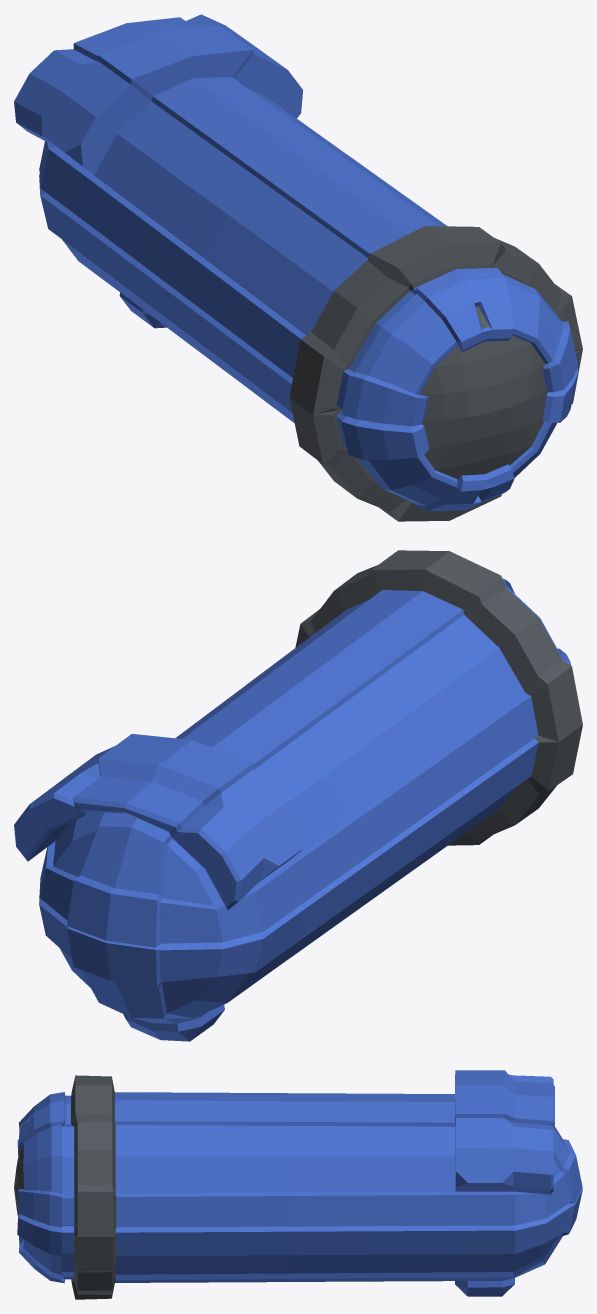
File: Fighter_03_Base_Blue.fbx
The picture shows the model from 3 angles, top to bottom: view 1: azimuth 30°, elevation 25°; view 2: azimuth 150°, elevation 25°; view 3: azimuth 270°, elevation 25°; orthographic projection. The views are drawn at different scales.
Parts seen in each view (by area): view 1: Fighter_03_Base_Blue; view 2: Fighter_03_Base_Blue; view 3: Fighter_03_Base_Blue.
Boxes of the visible parts, x1,y1,x2,y2 form: Fighter_03_Base_Blue: [14, 14, 582, 521]; Fighter_03_Base_Blue: [14, 550, 582, 1041]; Fighter_03_Base_Blue: [14, 1070, 582, 1299].
Bounding box in the file's own units: 311 × 306 × 769.
2 materials, 2 textured.
